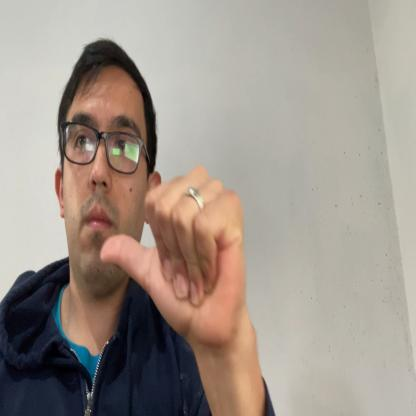A: (101, 166, 246, 337)
